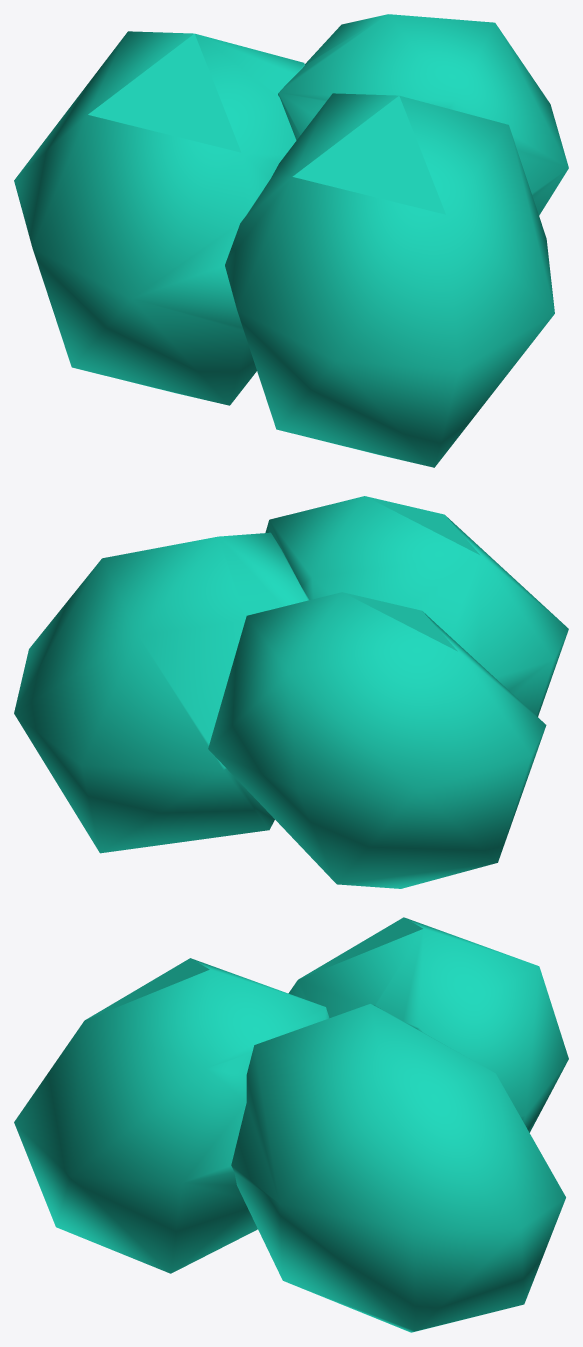
File: Bush 1.fbx
3 renders of one model, top to bottom at view 1: azimuth 30°, elevation 25°; view 2: azimuth 150°, elevation 25°; view 3: azimuth 270°, elevation 25°, orthographic. The views are drawn at different scales.
Parts seen in each view (by area): view 1: Bush 1; view 2: Bush 1; view 3: Bush 1.
Boxes of the visible parts, x1,y1,x2,y2 form: Bush 1: [14, 14, 568, 467]; Bush 1: [14, 496, 568, 888]; Bush 1: [14, 917, 568, 1332].
Size of the model in its own units: 47.68 by 28.28 by 45.96.
Materials: 1 (1 with a texture image).
